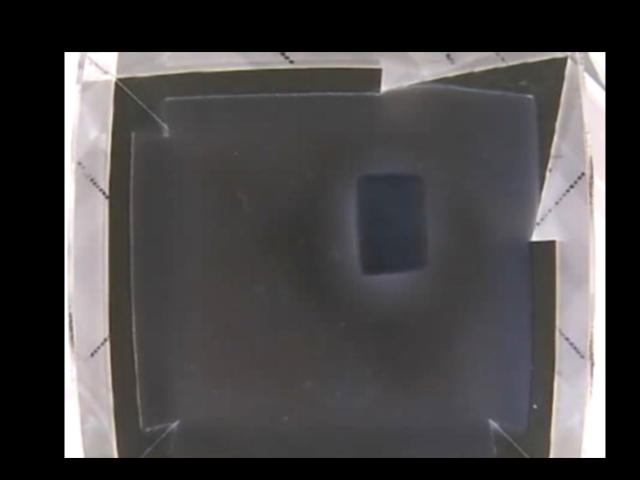Mooli: (356, 171, 427, 275)
